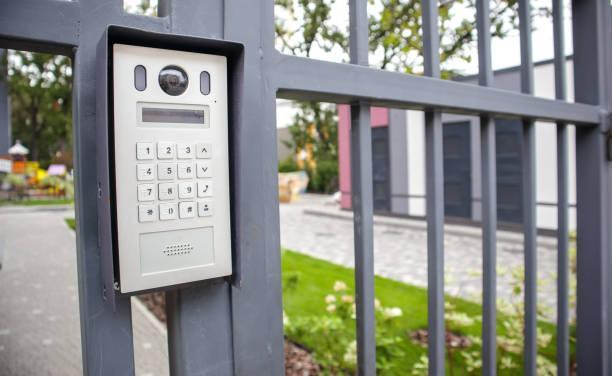camera: (135, 45, 210, 110)
